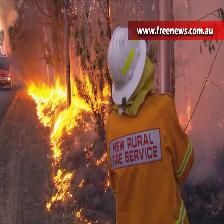fire: (27, 75, 110, 160), (46, 168, 72, 212)
